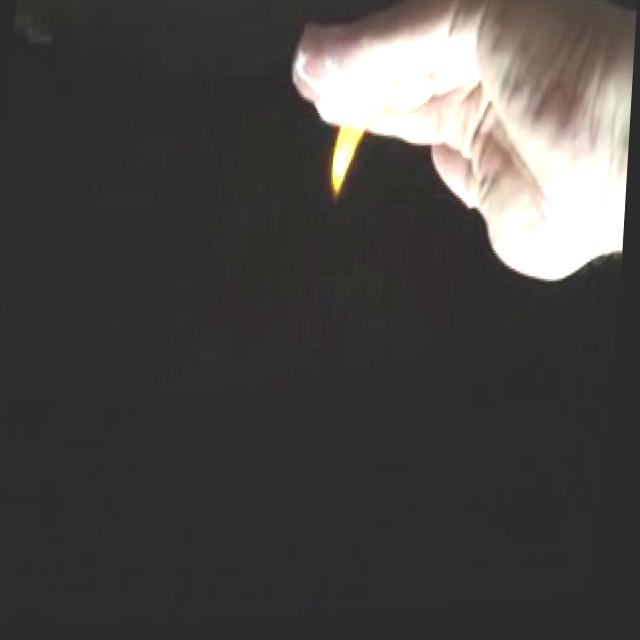helmet: (327, 101, 377, 209)
